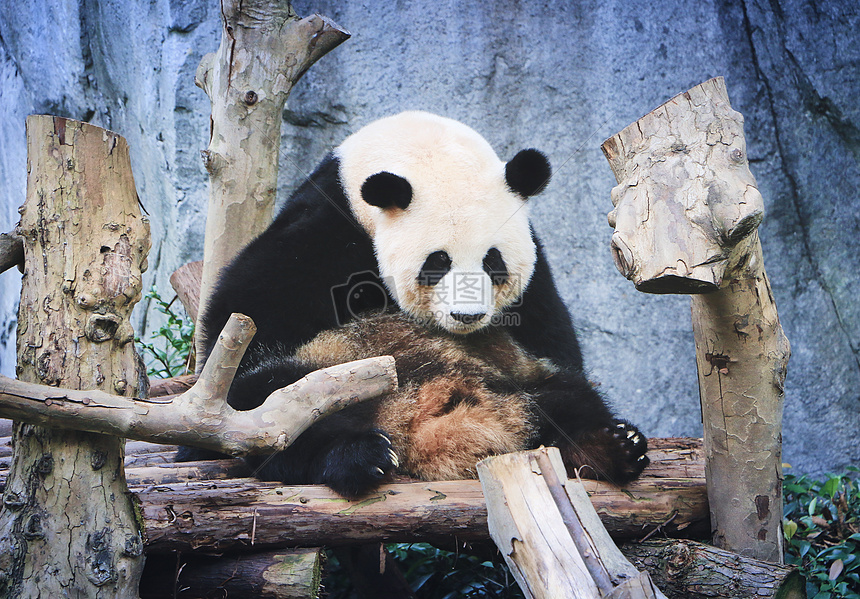panda: (193, 97, 634, 506)
